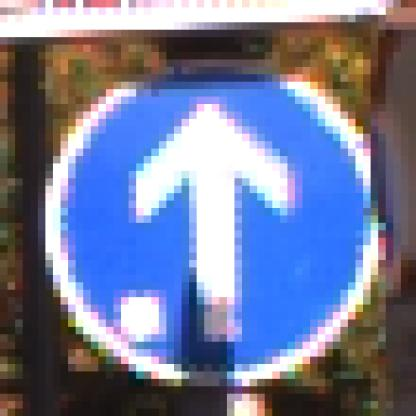AheadOnly: (39, 46, 372, 373)
